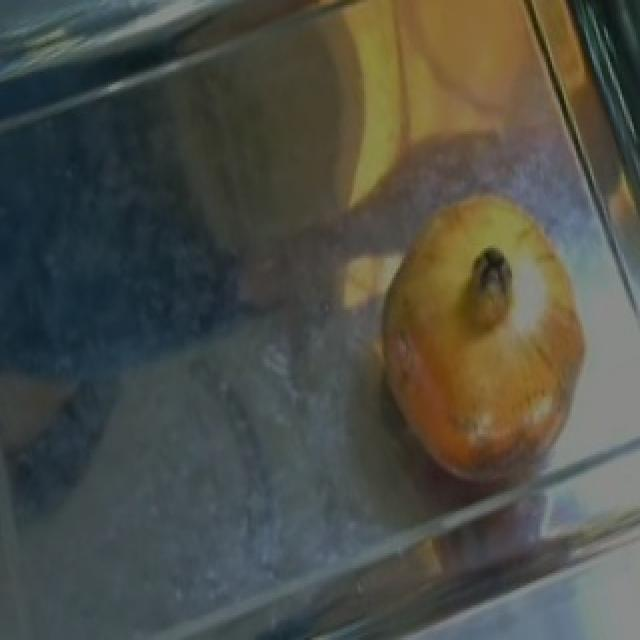fruit: (354, 159, 618, 419)
